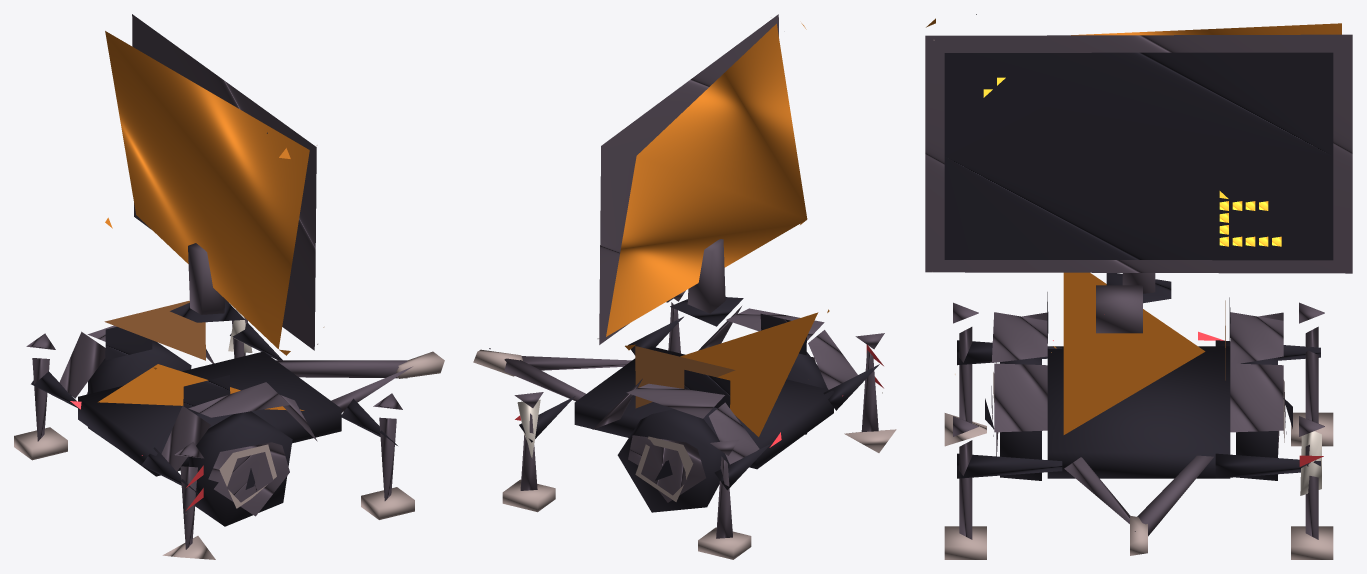
The picture shows the model from 3 angles, left to right: view 1: azimuth 30°, elevation 25°; view 2: azimuth 150°, elevation 25°; view 3: azimuth 270°, elevation 25°; orthographic projection. The views are drawn at different scales.
Size of the model in its own units: 2.87 by 3.2 by 2.64.
